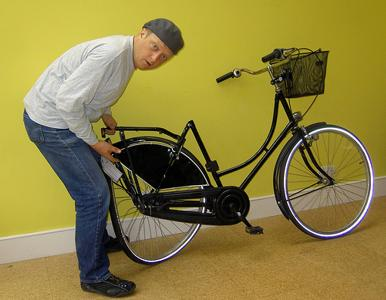person: (20, 14, 187, 298)
